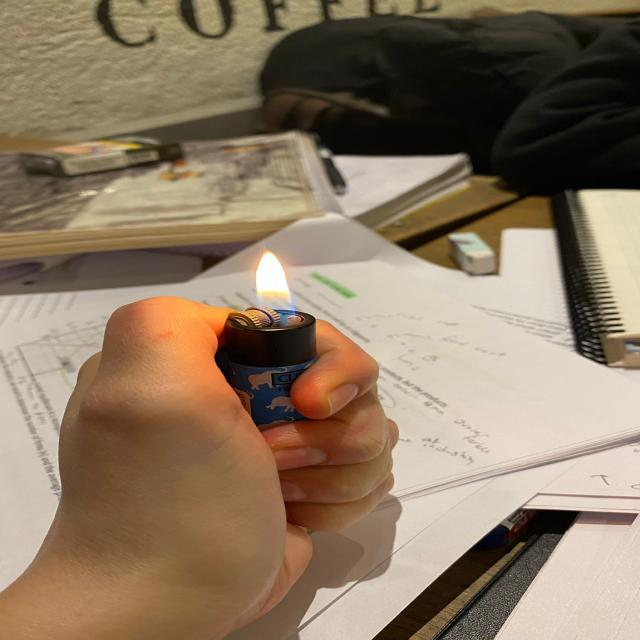Fire: (238, 226, 301, 318)
